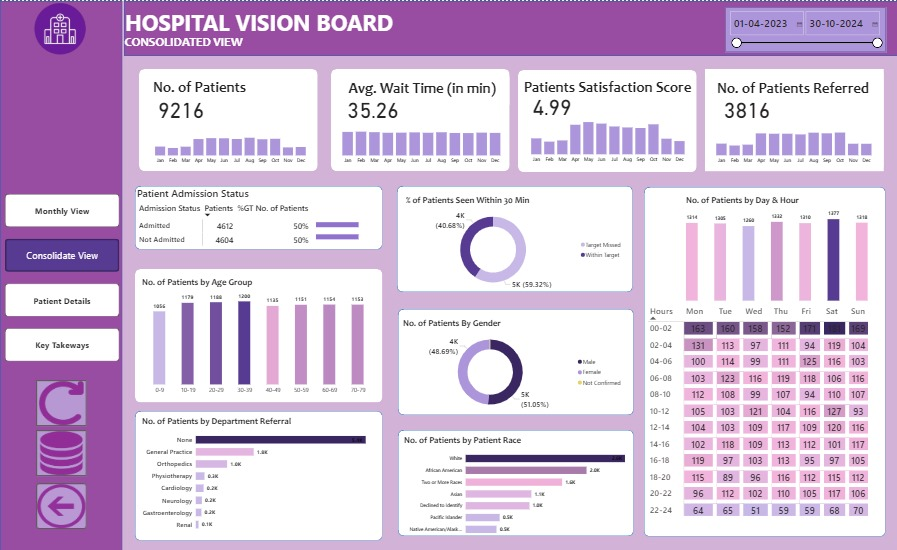

Layout of this report page (visuals, bound fields, positions):
{"tool":"powerbi","page":{"name":"Consolidate View","canvas":[2300,1400],"ordinal":1},"visuals":[{"type":"shape","box":[362.5,172.5,455,260],"z":0,"group":"g1"},{"type":"shape","box":[850,172.5,455,260],"z":0,"group":"g2"},{"type":"shape","box":[1802.5,172.5,455,260],"z":0,"group":"g4"},{"type":"shape","box":[1325,175,455,260],"z":0,"group":"g3"},{"type":"shape","box":[350,471.7,630,161.7],"z":0},{"type":"shape","box":[8.8,0,311.2,1400],"z":1000},{"type":"textbox","box":[382.5,190,267.5,67.5],"z":1000,"group":"g1"},{"type":"textbox","box":[1330,190,445,65],"z":1000,"group":"g3"},{"type":"textbox","box":[859.7,191.6,444.1,70.6],"z":1000,"group":"g2"},{"type":"textbox","box":[1806.3,193.7,442.5,70],"z":1000,"group":"g4"},{"type":"shape","box":[322,0,1976.8,140],"z":2000},{"type":"columnChart","fields":{"Category":["Date table.Month"],"Y":["Sum(Hospital ER_Data.Patient Satisfaction Score)"]},"box":[1340,292.5,427.5,127.5],"z":2000,"group":"g3"},{"type":"columnChart","fields":{"Category":["Date table.Month"],"Y":["Hospital ER_Data.No. of Patient Referred"]},"box":[1813.7,293.7,432.5,127.5],"z":2000,"group":"g4"},{"type":"columnChart","fields":{"Y":["Hospital ER_Data.No. of Patients"],"Category":["Date table.Month"]},"box":[386.3,313.7,420,110],"z":2000,"group":"g1"},{"type":"columnChart","fields":{"Category":["Date table.Month"],"Y":["Hospital ER_Data.Avg Wait Time"]},"box":[861.2,313.7,440,110],"z":2000,"group":"g2"},{"type":"textbox","box":[321.6,10,706.7,106],"z":3000},{"type":"card","fields":{"Values":["Hospital ER_Data.Avg Satisfaction Score"]},"box":[1325,227.5,172.5,72.5],"z":3000,"group":"g3"},{"type":"card","fields":{"Values":["Hospital ER_Data.No. of Patients"]},"box":[382.5,240,172.5,62.5],"z":3000,"group":"g1"},{"type":"card","fields":{"Values":["Hospital ER_Data.Avg Wait Time"]},"box":[870,240,172.5,62.5],"z":3000,"group":"g2"},{"type":"card","fields":{"Values":["Hospital ER_Data.No. of Patient Referred"]},"box":[1822.5,240,172.5,62.5],"z":3000,"group":"g4"},{"type":"slicer","fields":{"Values":["Date table.Date"]},"box":[1852.5,15,410,115],"z":4000},{"type":"textbox","box":[311.6,70.7,327.7,70.7],"z":5000},{"type":"pivotTable","title":"Patient Admission Status","fields":{"Rows":["Hospital ER_Data.Admission Status"],"Values":["Hospital ER_Data.No. of Patients","Divide(Hospital ER_Data.No. of Patients, ScopedEval(Hospital ER_Data.No. of Patients, []))"]},"box":[350,472,602,162],"z":6000},{"type":"barChart","fields":{"Y":["Hospital ER_Data.No. of Patients"],"Category":["Hospital ER_Data.Admission Status"]},"box":[806.4,534.8,151.2,95.2],"z":7000},{"type":"shape","box":[350,683.3,630,340],"z":8000},{"type":"clusteredColumnChart","fields":{"Category":["Hospital ER_Data.Age Group"],"Y":["Hospital ER_Data.No. of Patients"]},"box":[363.3,700,605,310],"z":9000},{"type":"shape","box":[350,1043.3,630,330],"z":10000},{"type":"barChart","fields":{"Y":["Hospital ER_Data.No. of Patients"],"Category":["Hospital ER_Data.Department Referral"]},"box":[363.3,1055,605,306.7],"z":11000},{"type":"shape","box":[1018,472,600,270],"z":12000},{"type":"donutChart","title":"% of Patients Seen Within 30 Min","fields":{"Y":["Hospital ER_Data.No. of Patients"],"Category":["Hospital ER_Data.Waittime Status"]},"box":[1036,490,565.6,254.8],"z":13000},{"type":"shape","box":[1020,785,600,270],"z":14000},{"type":"donutChart","title":"No. of Patients By Gender","fields":{"Y":["Hospital ER_Data.No. of Patients"],"Category":["Hospital ER_Data.Patient Gender"]},"box":[1027.6,803.6,574,252],"z":15000},{"type":"shape","box":[1020,1092.5,600,270],"z":16000},{"type":"barChart","fields":{"Y":["Hospital ER_Data.No. of Patients"],"Category":["Hospital ER_Data.Patient Race"]},"box":[1030,1102.5,597.5,270],"z":17000},{"type":"shape","box":[1647.5,472.5,615,890],"z":18000},{"type":"pivotTable","fields":{"Rows":["Hospital ER_Data.Waittime Interval"],"Columns":["Date table.Day Name"],"Values":["Hospital ER_Data.No. of Patients"]},"box":[1652.5,767.5,605,575],"z":19000},{"type":"columnChart","title":"No. of Patients by Day & Hour","fields":{"Category":["Date table.Day Name"],"Y":["Hospital ER_Data.No. of Patients"]},"box":[1747.5,490,475,277.5],"z":20000},{"type":"group","id":"g1","title":"KPI Card","box":[362.5,172.5,455,260],"z":21000},{"type":"group","id":"g2","title":"KPI Card","box":[850,172.5,455,260],"z":22000},{"type":"group","id":"g3","title":"KPI Card","box":[1325,175,455,260],"z":23000},{"type":"group","id":"g4","title":"KPI Card","box":[1802.5,172.5,455,260],"z":24000},{"type":"image","box":[0,0,320.6,141.2],"z":25000},{"type":"actionButton","box":[100,1226.5,129.4,117.6],"z":26000},{"type":"actionButton","box":[100,1091.2,129.4,117.6],"z":27000},{"type":"actionButton","box":[100,964.7,129.4,117.6],"z":28000},{"type":"pageNavigator","box":[20.6,491.2,291.2,426.5],"z":29000}]}

Visuals, with their boxes on the page's 2300x1400 design canvas (x1, y1, x2, y2). These are canvas units, not pixel positions in the 897x550 screenshot, which may show the page scaled, cropped or inside an application window:
shape: BBox(362, 172, 818, 432)
shape: BBox(850, 172, 1305, 432)
shape: BBox(1802, 172, 2258, 432)
shape: BBox(1325, 175, 1780, 435)
shape: BBox(350, 472, 980, 633)
shape: BBox(9, 0, 320, 1400)
textbox: BBox(382, 190, 650, 258)
textbox: BBox(1330, 190, 1775, 255)
textbox: BBox(860, 192, 1304, 262)
textbox: BBox(1806, 194, 2249, 264)
shape: BBox(322, 0, 2299, 140)
columnChart - Date table.Month x Sum(Hospital ER_Data.Patient Satisfaction Score): BBox(1340, 292, 1768, 420)
columnChart - Date table.Month x Hospital ER_Data.No. of Patient Referred: BBox(1814, 294, 2246, 421)
columnChart - Hospital ER_Data.No. of Patients x Date table.Month: BBox(386, 314, 806, 424)
columnChart - Date table.Month x Hospital ER_Data.Avg Wait Time: BBox(861, 314, 1301, 424)
textbox: BBox(322, 10, 1028, 116)
card - Hospital ER_Data.Avg Satisfaction Score: BBox(1325, 228, 1498, 300)
card - Hospital ER_Data.No. of Patients: BBox(382, 240, 555, 302)
card - Hospital ER_Data.Avg Wait Time: BBox(870, 240, 1042, 302)
card - Hospital ER_Data.No. of Patient Referred: BBox(1822, 240, 1995, 302)
slicer - Date table.Date: BBox(1852, 15, 2262, 130)
textbox: BBox(312, 71, 639, 141)
"Patient Admission Status" pivotTable: BBox(350, 472, 952, 634)
barChart - Hospital ER_Data.No. of Patients x Hospital ER_Data.Admission Status: BBox(806, 535, 958, 630)
shape: BBox(350, 683, 980, 1023)
clusteredColumnChart - Hospital ER_Data.Age Group x Hospital ER_Data.No. of Patients: BBox(363, 700, 968, 1010)
shape: BBox(350, 1043, 980, 1373)
barChart - Hospital ER_Data.No. of Patients x Hospital ER_Data.Department Referral: BBox(363, 1055, 968, 1362)
shape: BBox(1018, 472, 1618, 742)
"% of Patients Seen Within 30 Min" donutChart: BBox(1036, 490, 1602, 745)
shape: BBox(1020, 785, 1620, 1055)
"No. of Patients By Gender" donutChart: BBox(1028, 804, 1602, 1056)
shape: BBox(1020, 1092, 1620, 1362)
barChart - Hospital ER_Data.No. of Patients x Hospital ER_Data.Patient Race: BBox(1030, 1102, 1628, 1372)
shape: BBox(1648, 472, 2262, 1362)
pivotTable - Hospital ER_Data.Waittime Interval x Date table.Day Name: BBox(1652, 768, 2258, 1342)
"No. of Patients by Day & Hour" columnChart: BBox(1748, 490, 2222, 768)
"KPI Card" group: BBox(362, 172, 818, 432)
"KPI Card" group: BBox(850, 172, 1305, 432)
"KPI Card" group: BBox(1325, 175, 1780, 435)
"KPI Card" group: BBox(1802, 172, 2258, 432)
image: BBox(0, 0, 321, 141)
actionButton: BBox(100, 1226, 229, 1344)
actionButton: BBox(100, 1091, 229, 1209)
actionButton: BBox(100, 965, 229, 1082)
pageNavigator: BBox(21, 491, 312, 918)
